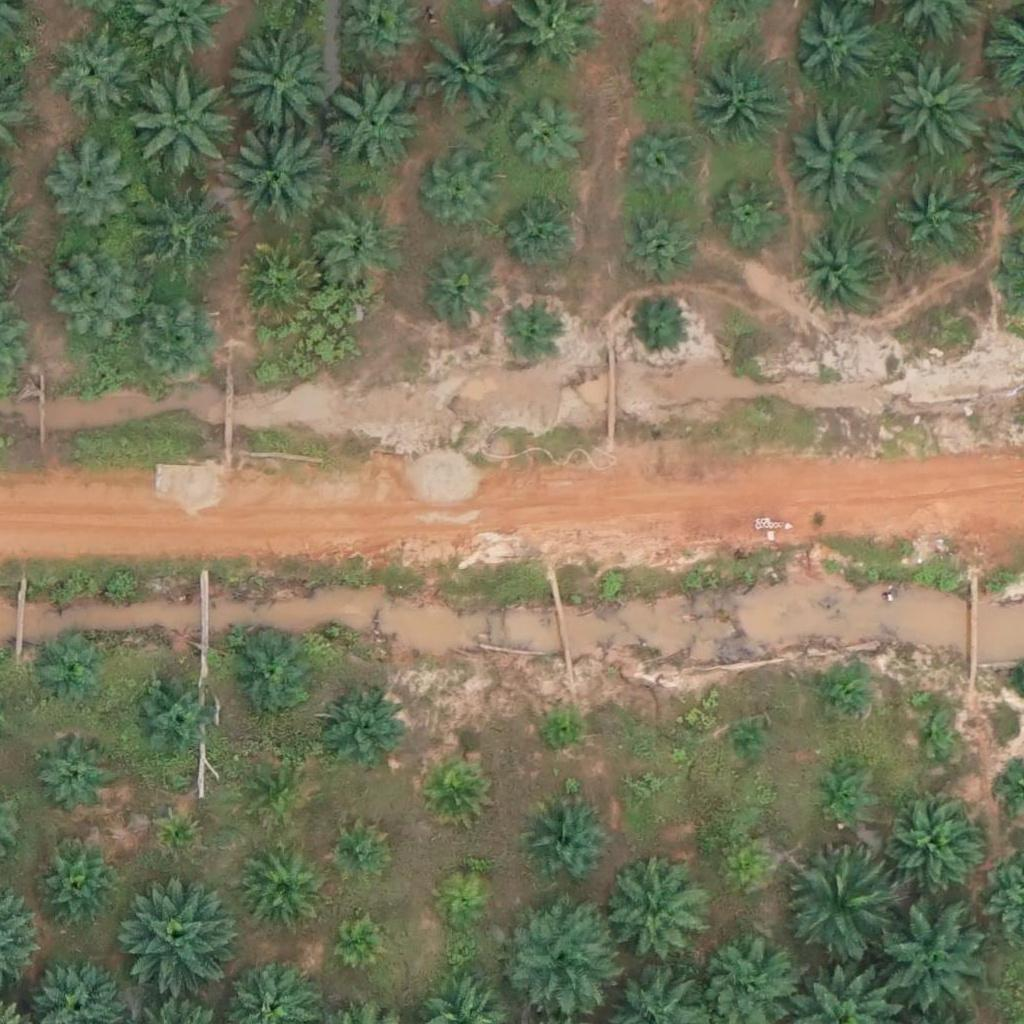Kelapa_Sawit: (122, 876, 235, 990), (872, 904, 985, 1017), (781, 844, 894, 957), (223, 119, 336, 232), (215, 23, 328, 136), (502, 899, 614, 1013), (123, 65, 235, 179), (609, 867, 709, 968), (878, 58, 978, 159), (412, 28, 512, 129), (322, 76, 422, 177), (130, 181, 230, 282), (697, 45, 797, 146), (888, 796, 988, 896), (789, 110, 889, 210), (522, 796, 610, 884), (128, 673, 216, 761), (34, 840, 122, 928), (611, 201, 699, 289), (230, 239, 318, 327), (42, 145, 130, 233), (789, 5, 876, 94), (53, 252, 140, 341), (229, 629, 316, 717), (238, 844, 325, 932), (896, 176, 983, 264), (798, 225, 885, 313), (621, 120, 708, 208), (315, 206, 402, 294), (131, 298, 218, 386), (43, 23, 130, 111), (325, 697, 400, 773), (34, 739, 109, 815), (504, 103, 579, 179), (506, 191, 581, 267), (624, 38, 699, 114), (712, 173, 787, 248), (424, 158, 499, 233), (422, 258, 497, 333), (36, 636, 99, 699), (425, 757, 488, 820), (495, 299, 558, 362), (628, 295, 690, 358), (248, 763, 310, 826), (435, 876, 485, 927), (910, 712, 960, 762), (818, 666, 868, 716), (813, 769, 863, 819), (337, 919, 387, 969), (332, 827, 382, 877), (727, 727, 765, 765), (541, 711, 578, 749), (717, 846, 754, 883), (156, 812, 193, 849), (630, 774, 655, 800)
